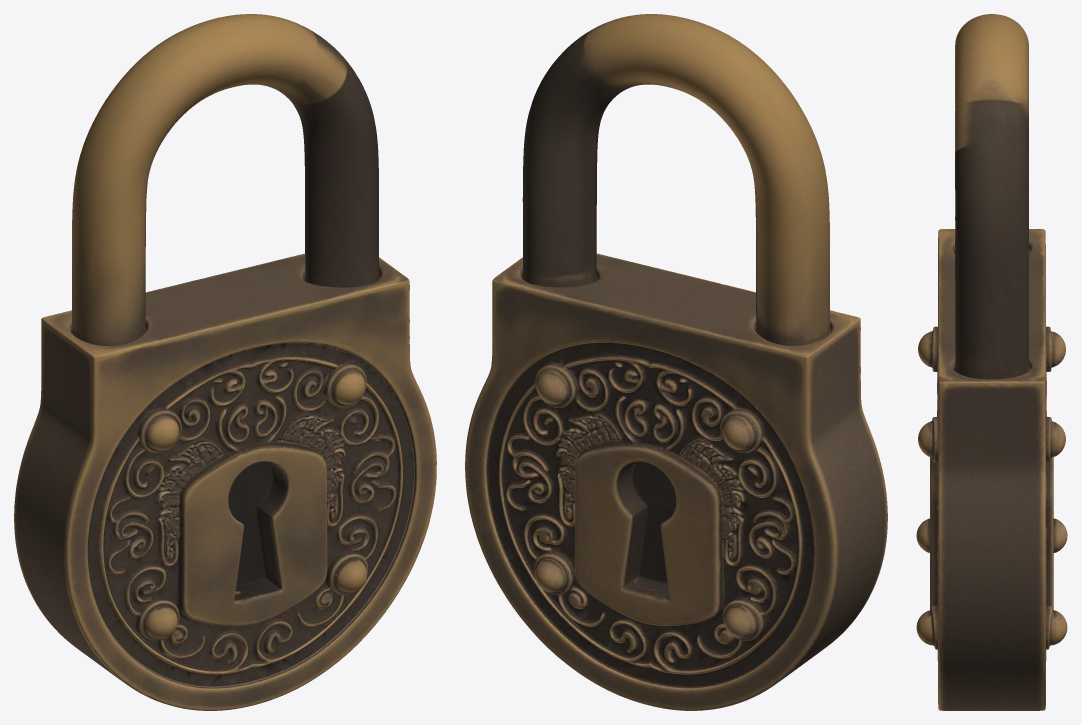
Rendered from candado.glb.
The picture shows the model from 3 angles, left to right: view 1: azimuth 30°, elevation 25°; view 2: azimuth 150°, elevation 25°; view 3: azimuth 270°, elevation 25°; orthographic projection.
Visible parts, largest first — view 1: mesh_node; view 2: mesh_node; view 3: mesh_node.
Part boxes in pixels (box(x1,y1,x2,y2)): mesh_node: box(14, 14, 436, 710); mesh_node: box(465, 14, 887, 710); mesh_node: box(916, 14, 1067, 710).
Size of the model in its own units: 1.11 by 1.9 by 0.3929.
Materials: 1 (1 with a texture image).
